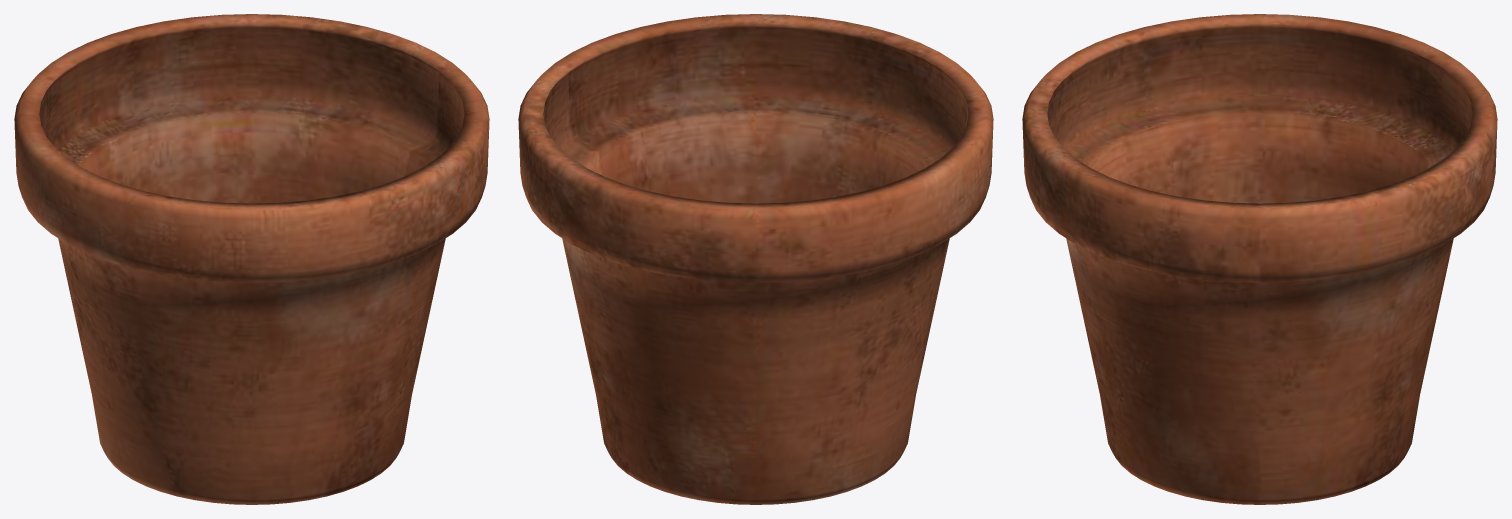
The model's file is pot_classic_web.glb.
The picture shows the model from 3 angles, left to right: view 1: azimuth 30°, elevation 25°; view 2: azimuth 150°, elevation 25°; view 3: azimuth 270°, elevation 25°; orthographic projection.
Visible parts, largest first — view 1: PotClassic_Mesh; view 2: PotClassic_Mesh; view 3: PotClassic_Mesh.
Part boxes in pixels (left/top/right/bottom): PotClassic_Mesh: left=14, top=14, right=489, bottom=504; PotClassic_Mesh: left=518, top=14, right=993, bottom=504; PotClassic_Mesh: left=1022, top=14, right=1497, bottom=504.
Bounding box in the file's own units: 0.248 × 0.19 × 0.248.
Materials: 1 (1 with a texture image).
